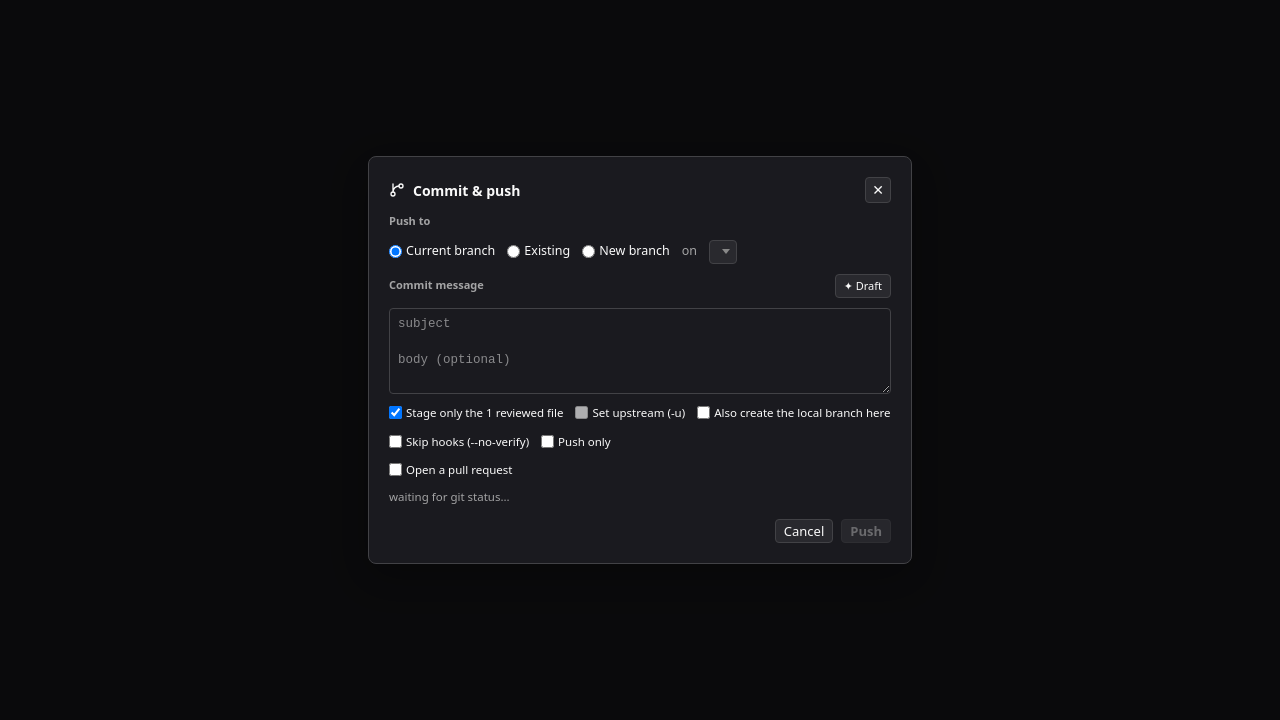
Scenario: shows an editable fallback and explains its origin
This screenshot has width=1280, height=720.
Click the button "✦ Draft": (863, 286) left=835, top=274, right=891, bottom=298
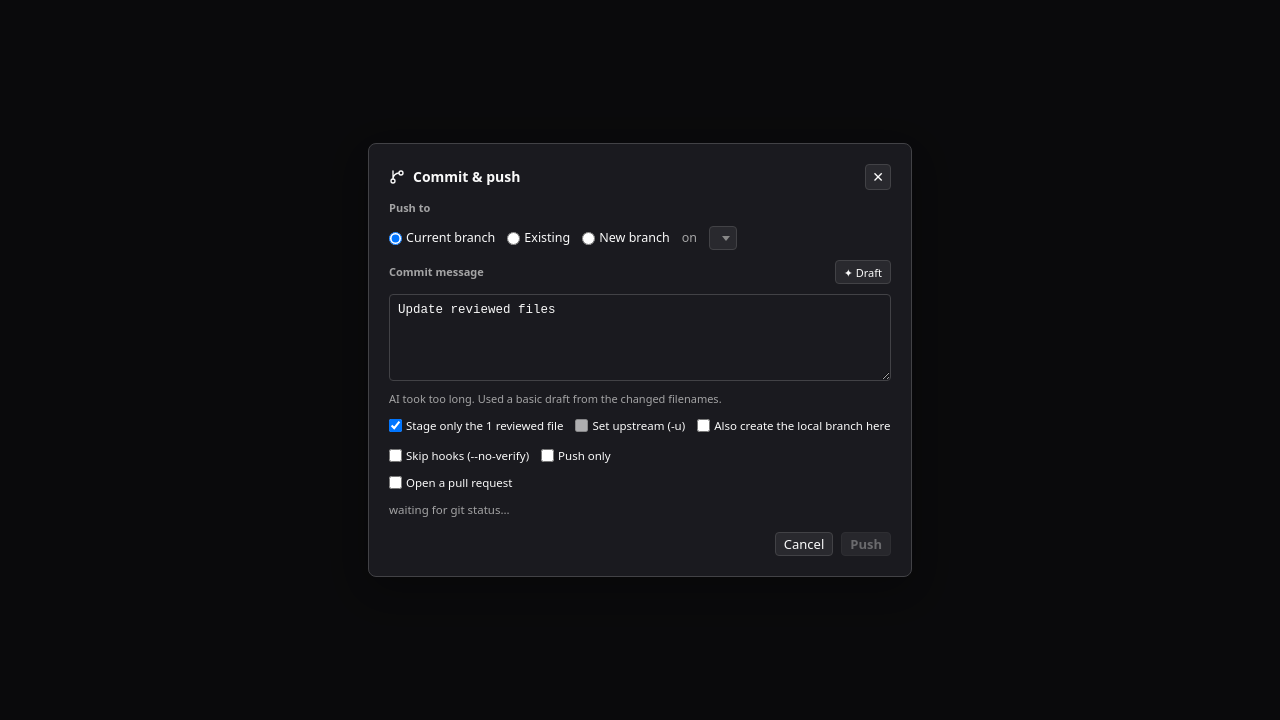
Expected: the text box with class "rl-push-textarea" is enabled, left=389, top=294, right=891, bottom=381
Now the text box with class "rl-push-textarea" holds "Update reviewed files", box left=389, top=294, right=891, bottom=381
Now the message "AI took too long. Used a basic draft from the changed filenames." is shown, box left=389, top=391, right=722, bottom=406
